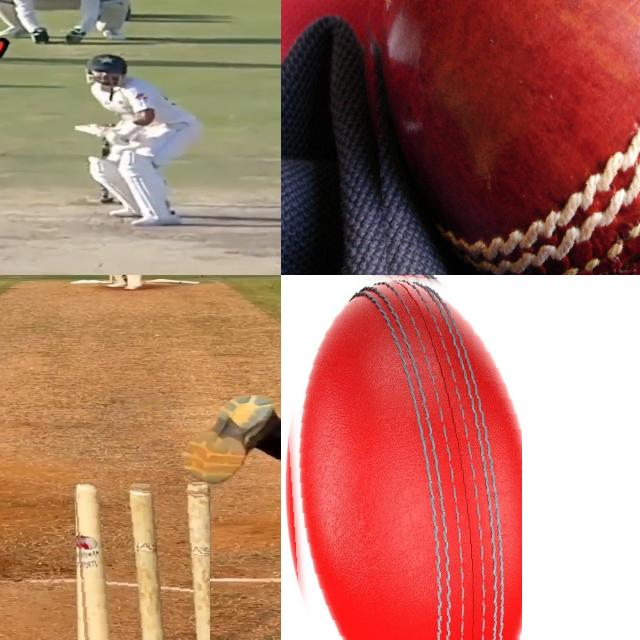Cricket ball: (281, 275, 522, 640), (355, 0, 640, 275)
Stumps: (74, 479, 209, 640)
